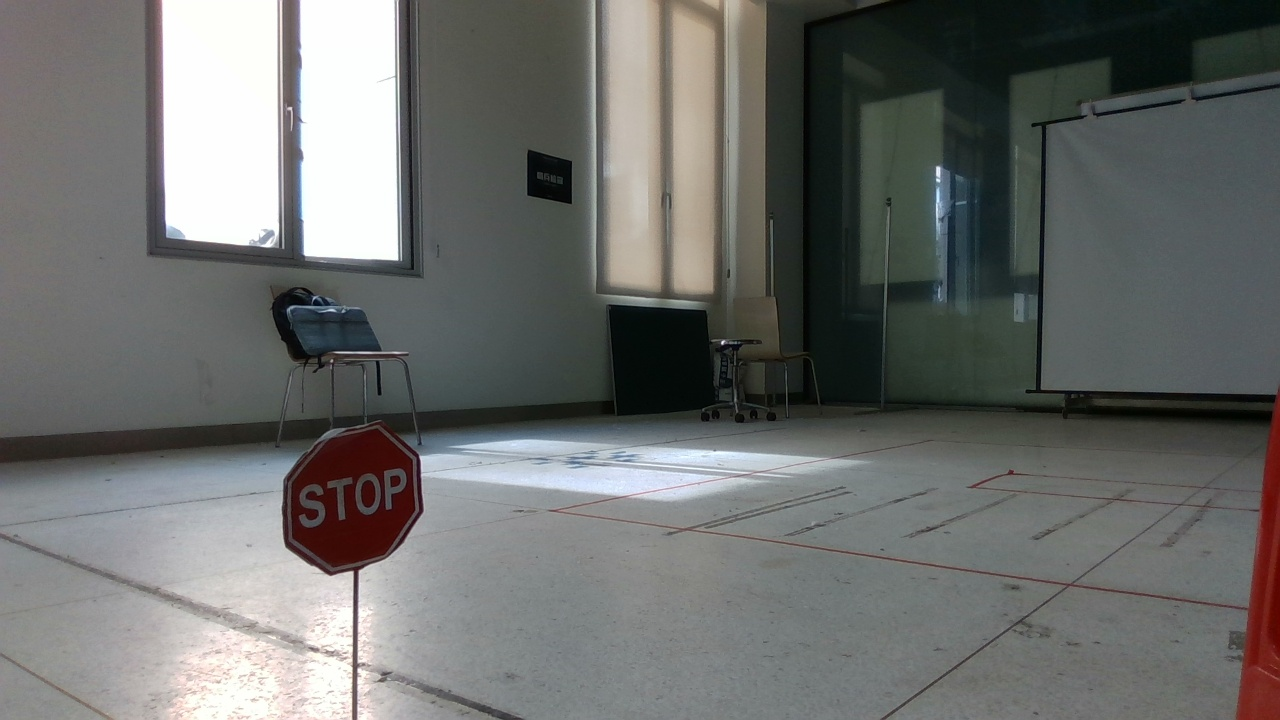stop_sign: (266, 413, 450, 720)
